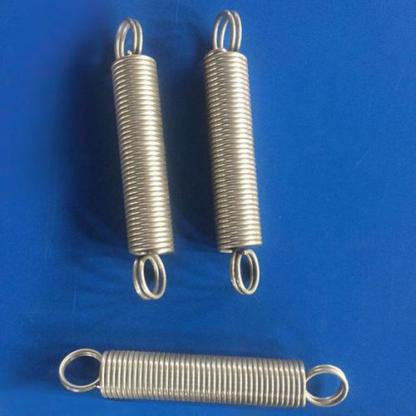FOD: (55, 342, 352, 414), (199, 7, 268, 298), (107, 17, 177, 303)
